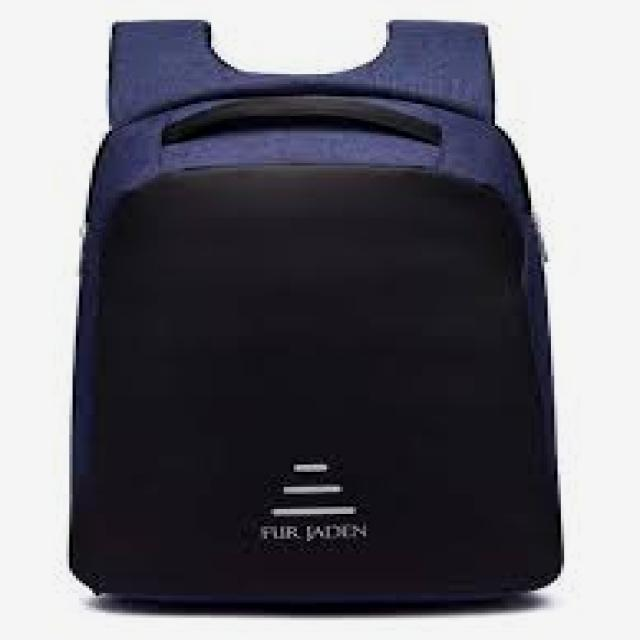backpack: (67, 19, 565, 609)
